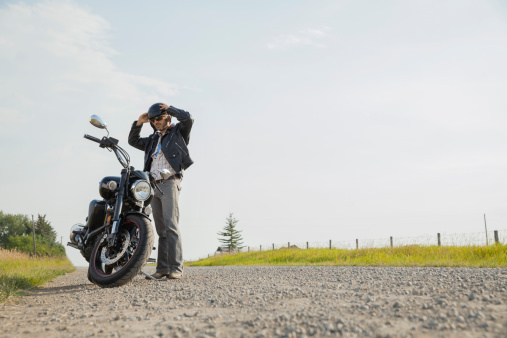em pe: (127, 99, 195, 284)
